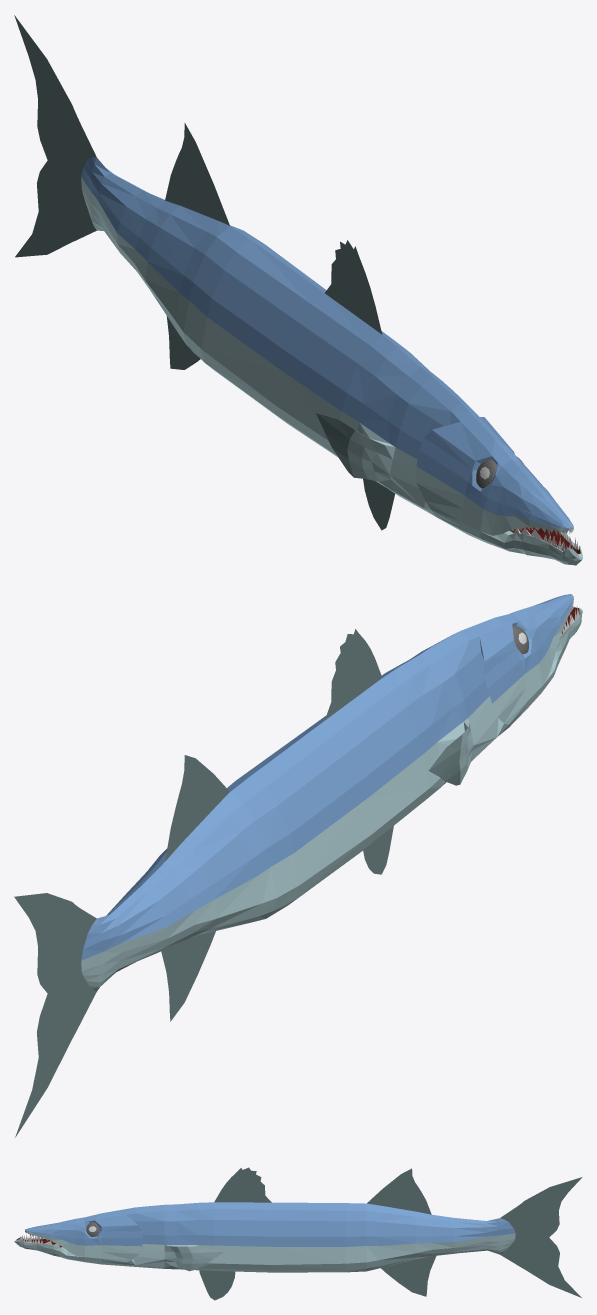
File: barracuda.dae
3 renders of one model, top to bottom at view 1: azimuth 30°, elevation 25°; view 2: azimuth 150°, elevation 25°; view 3: azimuth 270°, elevation 25°, orthographic. The views are drawn at different scales.
Parts seen in each view (by area): view 1: Circle; view 2: Circle; view 3: Circle.
Part boxes in pixels (bbox=[...]): Circle: bbox=[14, 15, 582, 565]; Circle: bbox=[14, 594, 582, 1137]; Circle: bbox=[14, 1167, 582, 1300].
Bounding box in the file's own units: 1.48 × 12.74 × 3.29.
